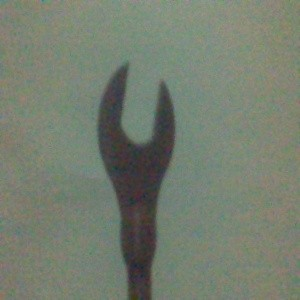spanner: (97, 61, 177, 300)
